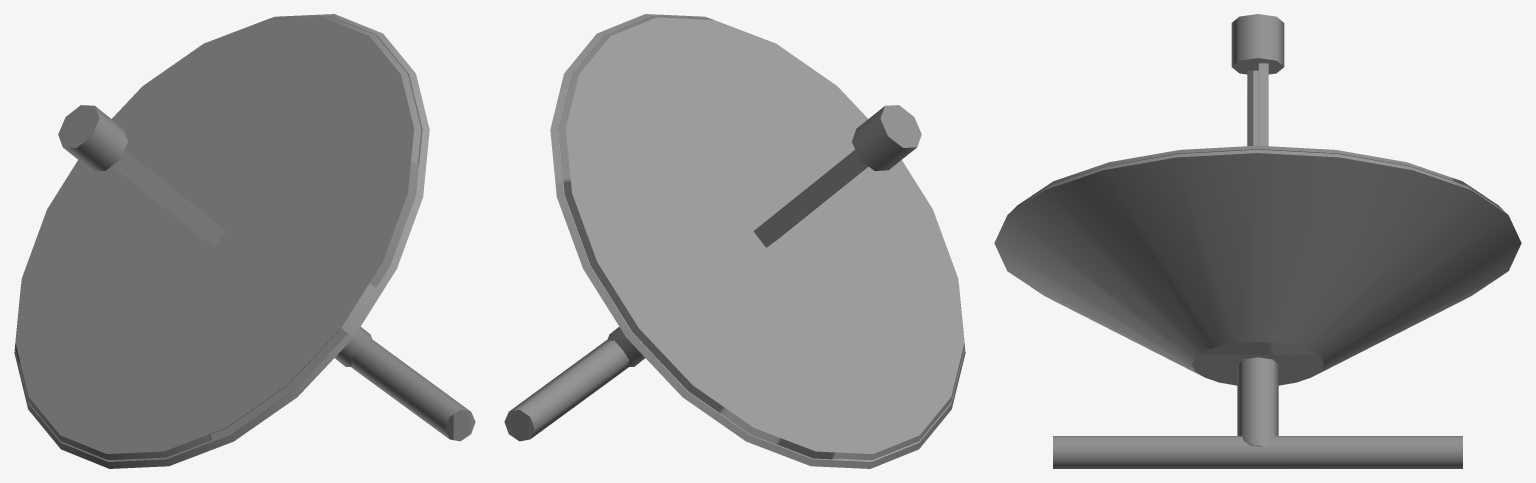
The picture shows the model from 3 angles, left to right: view 1: azimuth 30°, elevation 25°; view 2: azimuth 150°, elevation 25°; view 3: azimuth 270°, elevation 25°; orthographic projection.
Bounding box in the file's own units: 0.6378 × 0.6378 × 0.9.
